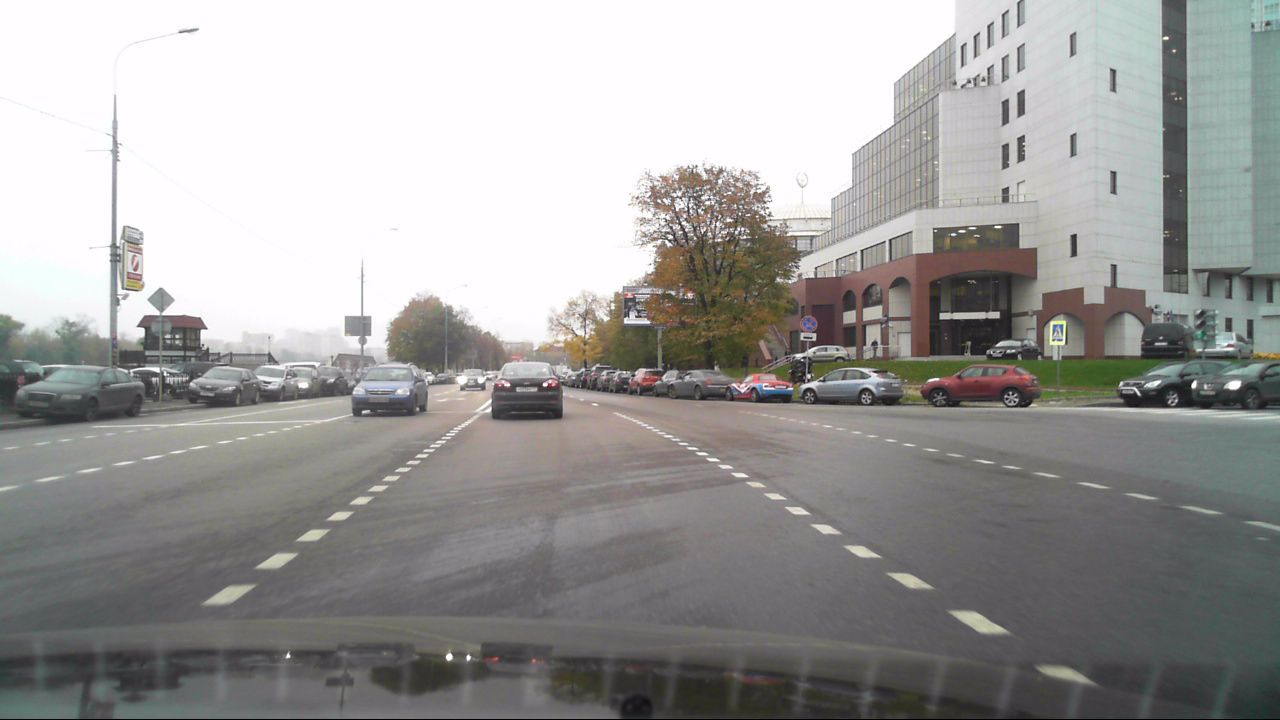No Parking: (799, 315, 819, 333)
